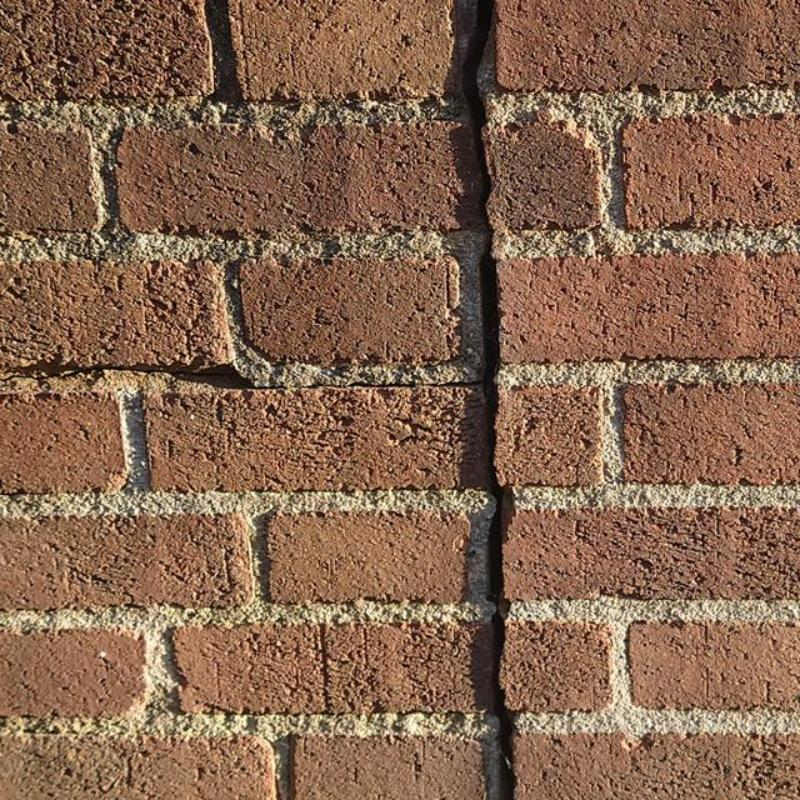pothole: (481, 211, 512, 799), (0, 362, 482, 390), (462, 1, 495, 209)
